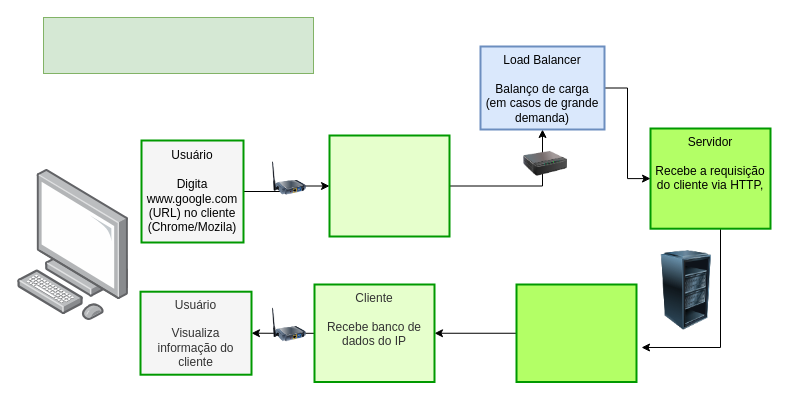
Some shapes in this 788 by 400 pixel diagram are drawn without their labels. Here are the shapes that lost their labels. From the top down, the centre of each, then its label:
At point (178, 45): "Dinâmica POST IT Grupo 12 Os Trybers Rangers".
At point (389, 185): "Cliente (navegador) Envia o apelido/ IP para o Servidor".
At point (576, 332): "Servidor O Banco de Dados armazena, processa e responde via HTTP".
